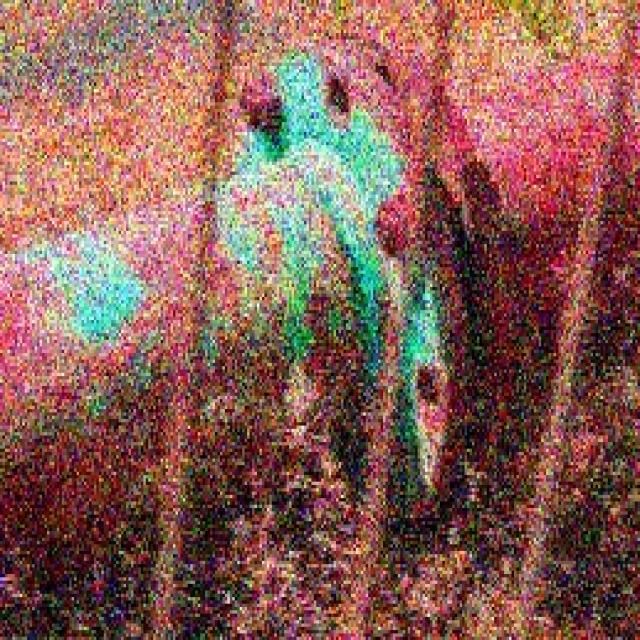rust: (0, 228, 371, 472), (445, 53, 637, 356)
